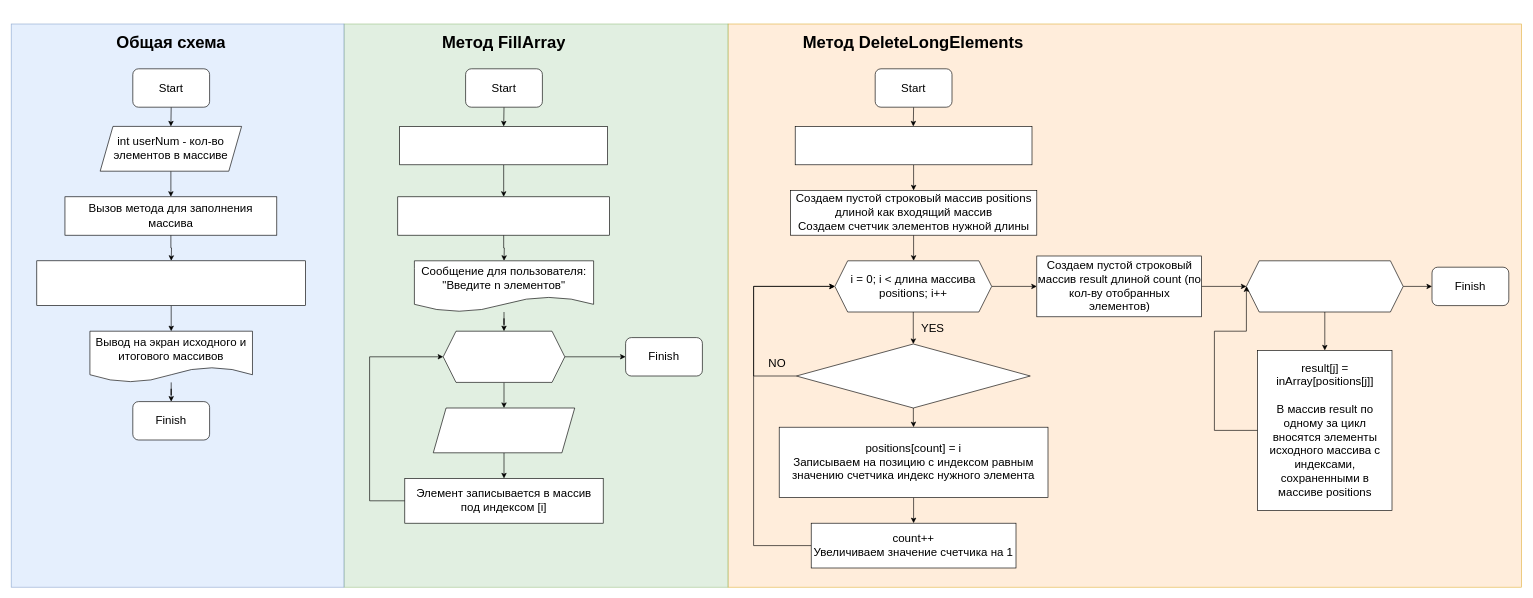
Image size: 1533x598. Some labels were removed from this diagram. Here are the shapes that lost their labels. From the top down, the centre of each, then its label:
At point (503, 145): "int n - число элементов в массиве, которое метод получает на входе".
At point (913, 145): "inArray, num - массив и длина элементов, которые метод получает на входе".
At point (503, 215): "Создаем пустой строковый массив длиной n".
At point (171, 283): "Вызов метода для создания нового массива с элементами длиной не более 3 символов".
At point (1324, 286): "j = 0; j < count; j++".
At point (504, 356): "i = 0; i < n; i++".
At point (913, 375): "Длина элемента inArray[i] <=3?".
At point (504, 430): "Пользователь вводит элемент".
